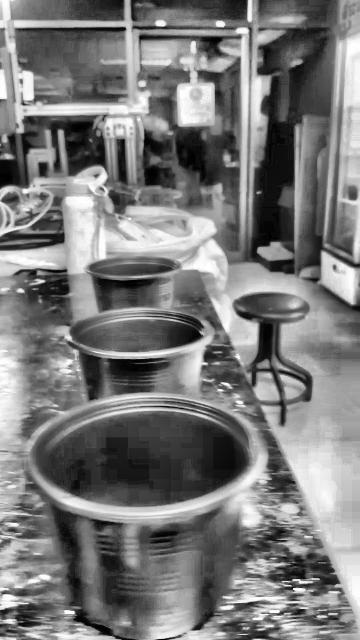pot: (29, 393, 266, 639), (32, 313, 253, 517), (67, 308, 213, 400), (87, 255, 181, 311)
